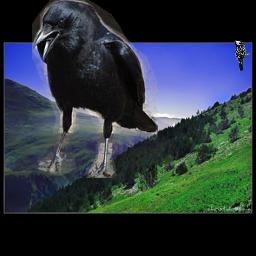Crow: (32, 0, 158, 178)
Woodpecker: (234, 39, 250, 71)
